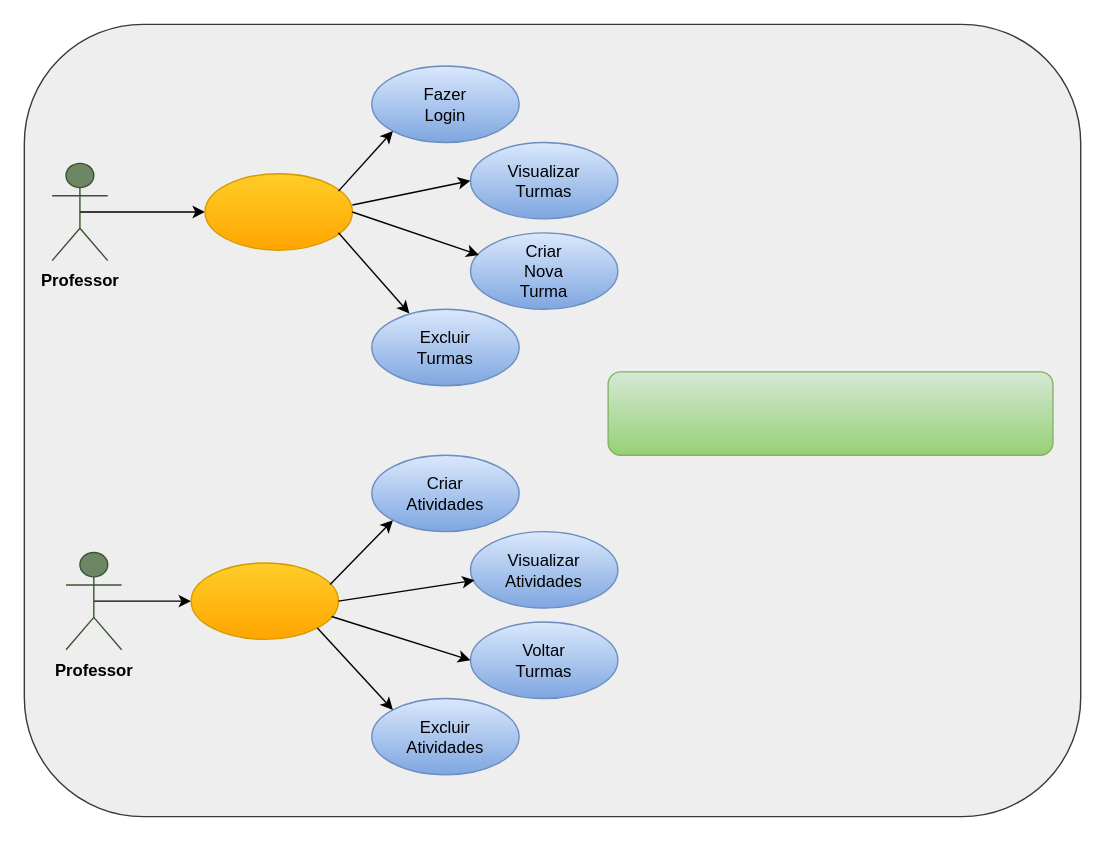
The diagram is 1105 pixels wide and 841 high, and some of its shapes have lost their labels. Each missing label, with the centre of its shape:
Cadastrar Atividades: the point at 264,600
Cadastrar Turmas: the point at 278,211
DIAGRAMA DE CASO DE USO: the point at 830,412
